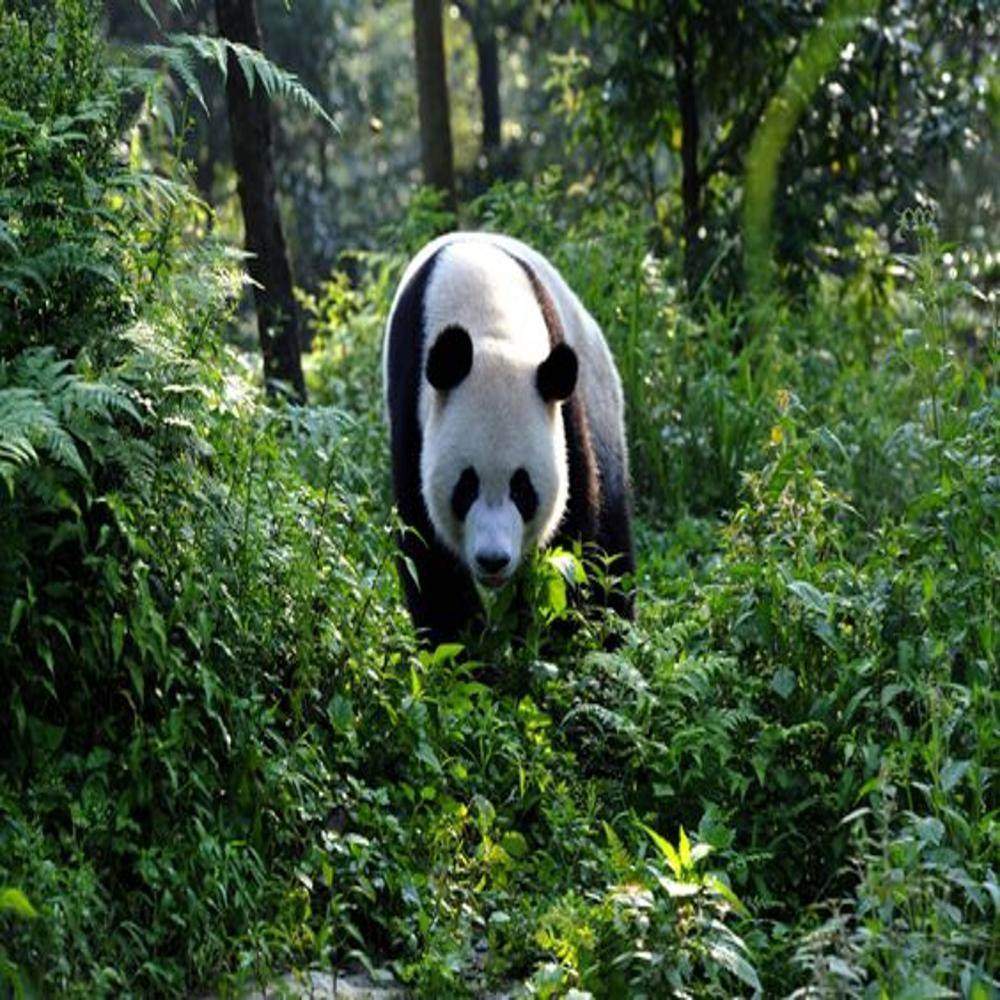panda: (368, 224, 640, 685)
